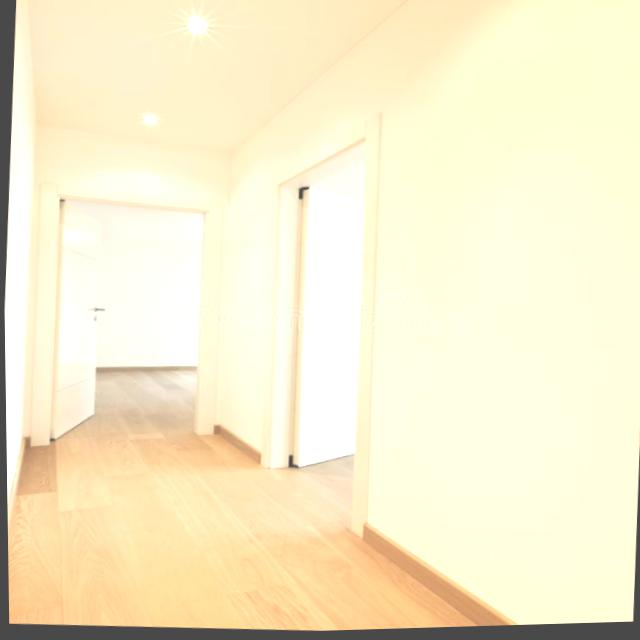open: (25, 172, 236, 461)
semi-open: (262, 103, 414, 518)
